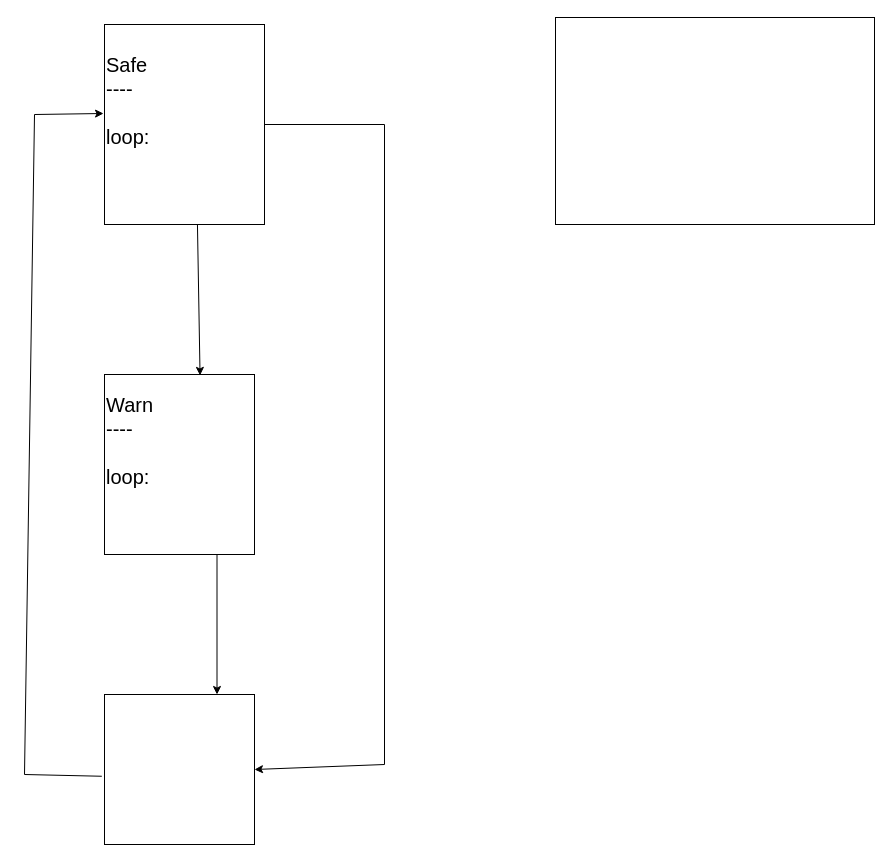
The diagram is 892 pixels wide and 862 high, and some of its shapes have lost their labels. The shapes that lost their labels are listed below. From the top down, each one's centre as x and y in pixels, then its label:
At [714,120]: "Note: Par1 : fn1 Par2 : fn2 Par3: fn3 = run fn1,fn2,fn3 at the same time".
At [179,769]: "Danger --- loop:".
